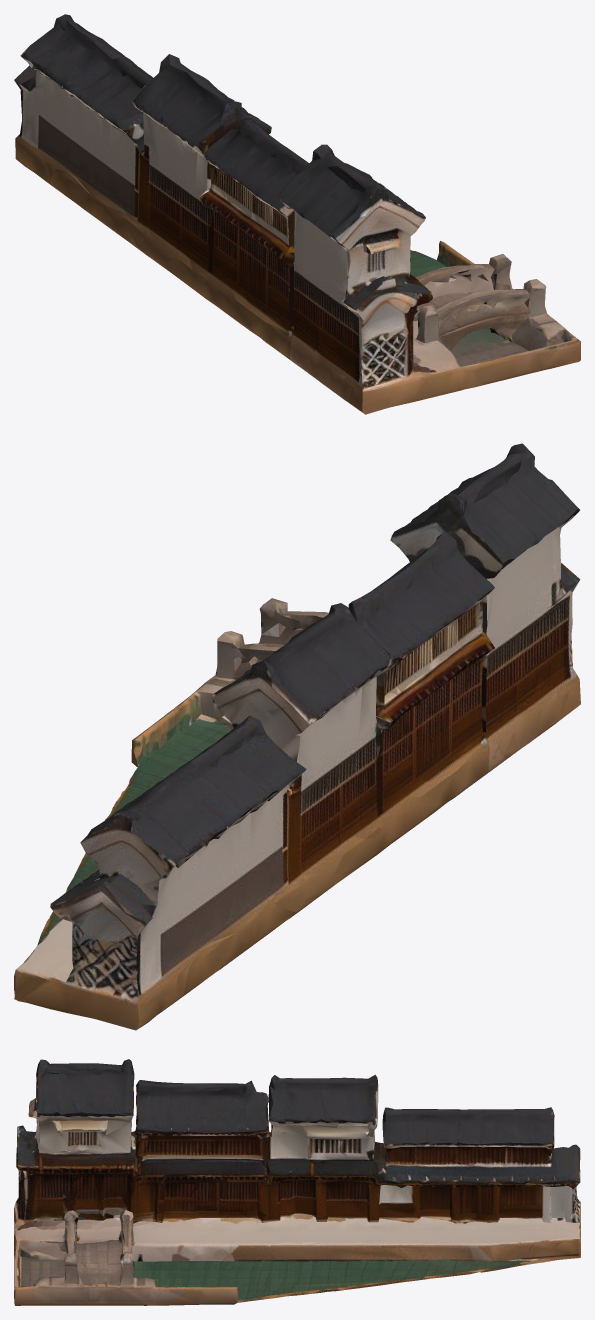
File: mameda-machi.glb
The picture shows the model from 3 angles, top to bottom: view 1: azimuth 30°, elevation 25°; view 2: azimuth 150°, elevation 25°; view 3: azimuth 270°, elevation 25°; orthographic projection. The views are drawn at different scales.
Parts seen in each view (by area): view 1: logan-textured.obj; view 2: logan-textured.obj; view 3: logan-textured.obj.
Boxes of the visible parts, left/top/right/bottom form: logan-textured.obj: left=14, top=14, right=580, bottom=414; logan-textured.obj: left=14, top=443, right=580, bottom=1030; logan-textured.obj: left=14, top=1059, right=580, bottom=1305.
Bounding box in the file's own units: 0.3859 × 0.3364 × 1.
Materials: 1 (1 with a texture image).
